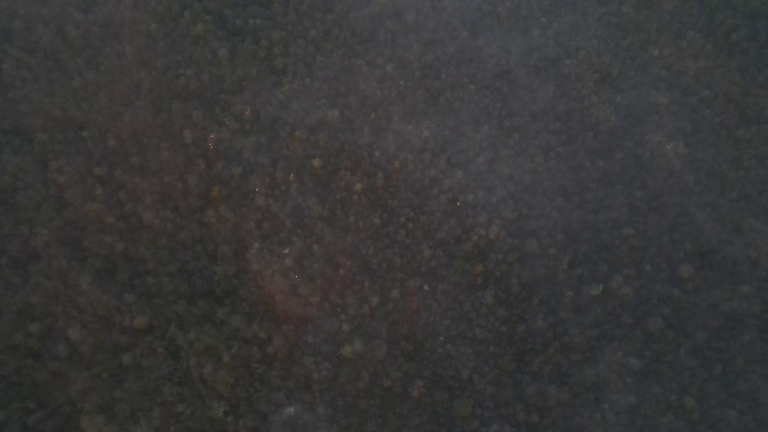fire: (202, 131, 218, 153), (240, 102, 251, 117), (292, 270, 301, 280), (223, 117, 231, 126)
